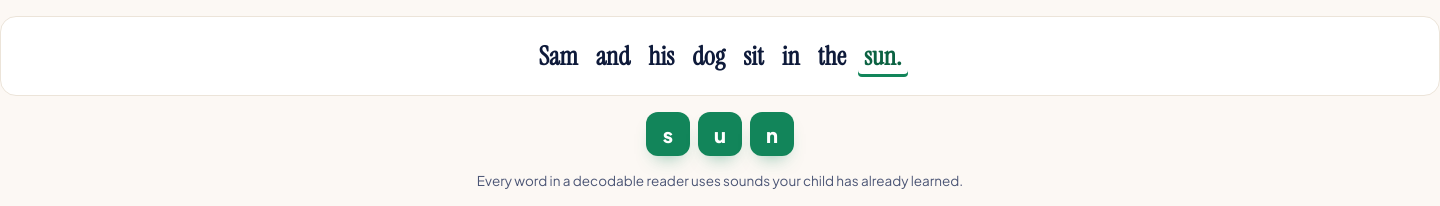
Scenario: DecodableReader › shows the sounds of a tapped word
Click the button "Sam".
click(558, 56)  # box [532,35,584,77]
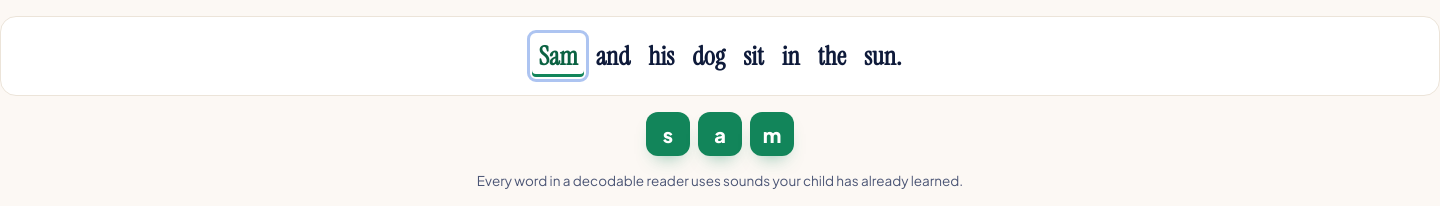
Check: the element showing "s a m" is shown, box [646,112,794,156]
